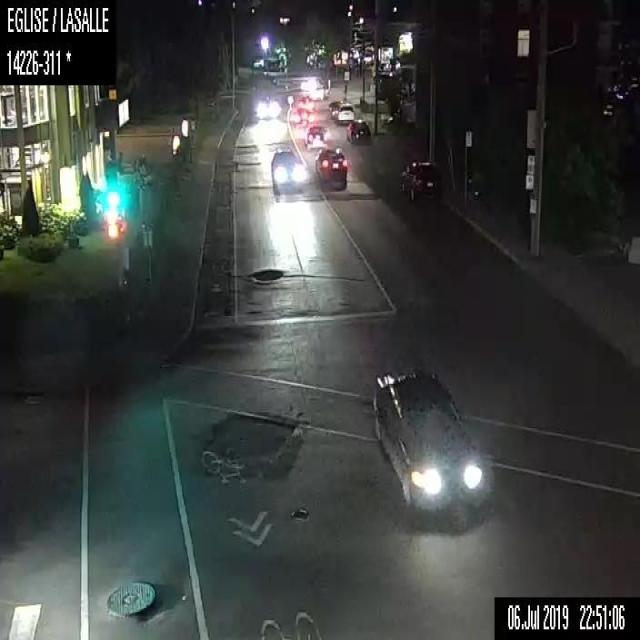vehicle: (371, 366, 484, 506), (398, 158, 442, 202), (270, 144, 303, 193), (314, 146, 347, 183), (345, 118, 371, 142), (304, 123, 327, 149), (255, 98, 281, 118), (334, 101, 355, 124), (290, 106, 313, 126)
